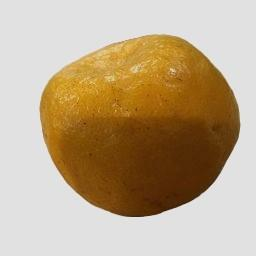Ripe: (39, 35, 239, 217)
